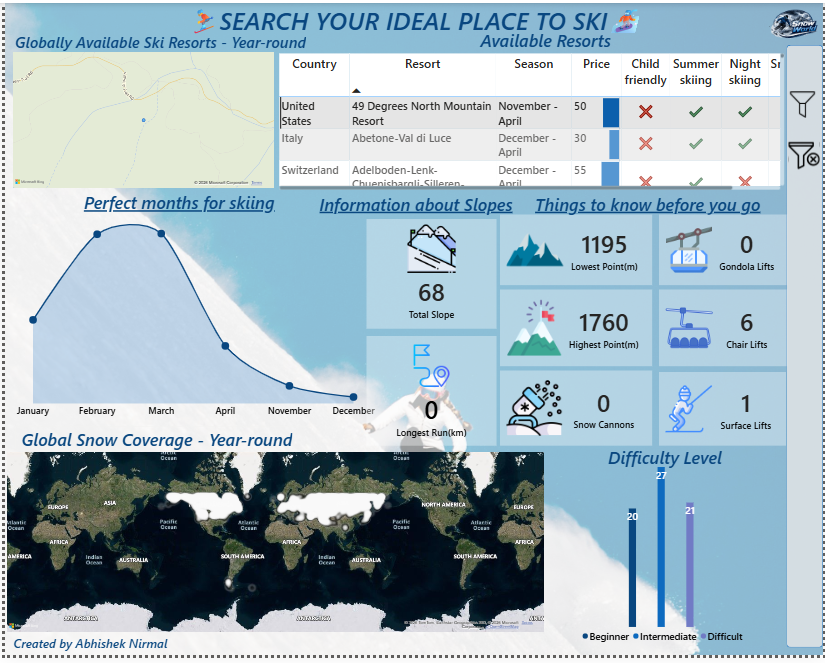

Layout of this report page (visuals, bound fields, positions):
{"tool":"powerbi","page":{"name":"Snow finder","canvas":[1800,1434],"ordinal":0},"visuals":[{"type":"shape","box":[1717.6,91.2,79.9,1325.1],"z":0,"group":"g1"},{"type":"textbox","box":[1262.1,972.4,375.9,65.5],"z":0},{"type":"textbox","box":[0,0,1796.7,90],"z":1000},{"type":"actionButton","box":[1718.8,297,79.9,77.2],"z":1000,"group":"g1"},{"type":"textbox","box":[696.6,55.2,986.2,51.7],"z":2000},{"type":"actionButton","box":[1718.8,186.3,79.9,70.4],"z":2000,"group":"g1"},{"type":"tableEx","fields":{"Values":["resorts.Country","resorts.Resort","resorts.Season","resorts.Price","resorts.Child friendly","resorts.Summer skiing","resorts.Nightskiing","resorts.Snowparks"]},"box":[597.1,105.6,1121.7,310.1],"z":3000},{"type":"textbox","box":[65.5,413.8,634.5,62.1],"z":4000},{"type":"lineChart","fields":{"Category":["Calendar.Month Name"],"Y":["snow.Snow Avg %"]},"box":[0,462.1,827.6,458.6],"z":5000},{"type":"clusteredColumnChart","fields":{"Y":["resorts.Beginner","resorts.Intermediate","resorts.Difficult"]},"box":[1177.8,1006.2,541.1,409.1],"z":6000},{"type":"textbox","box":[686.2,417.2,444.8,58.6],"z":7000},{"type":"cardVisual","fields":{"Data":["resorts.Total Slope"]},"box":[796.6,475.9,286.2,241.4],"z":8000},{"type":"cardVisual","fields":{"Data":["resorts.Longest Runway"]},"box":[796.6,731,286.2,241.4],"z":9000},{"type":"cardVisual","fields":{"Data":["resorts.Lowest_Point"]},"box":[1089.7,465.5,334.5,155.2],"z":10000},{"type":"textbox","box":[1106.9,417.2,610.3,58.6],"z":11000},{"type":"cardVisual","fields":{"Data":["resorts.Highest_Point"]},"box":[1089.7,629.3,334.5,169],"z":12000},{"type":"cardVisual","fields":{"Data":["resorts.Snow_Cannons"]},"box":[1089.7,806.9,334.5,165.5],"z":13000},{"type":"cardVisual","fields":{"Data":["resorts.Gondola_Lifts"]},"box":[1437.9,465.5,282.8,155.2],"z":14000},{"type":"cardVisual","fields":{"Data":["resorts.Chair_Lifts"]},"box":[1437.9,631,282.8,169],"z":15000},{"type":"cardVisual","fields":{"Data":["resorts.Surface_Lifts"]},"box":[1437.9,810.3,279.3,162.1],"z":16000},{"type":"map","fields":{"Y":["resorts.Latitude"],"X":["resorts.Longitude"]},"box":[13.8,103.4,582.8,310.3],"z":17000},{"type":"map","fields":{"Y":["snow.Latitude"],"X":["snow.Longitude"],"Size":["snow.Snow Avg %"]},"box":[0,983.1,1191,405.8],"z":18000},{"type":"cardVisual","fields":{"Data":["resorts.Map Title"]},"box":[0,48.3,769,69],"z":19000},{"type":"cardVisual","fields":{"Data":["resorts.Snow Map Title"]},"box":[13.8,920.7,672.4,75.9],"z":20000},{"type":"group","id":"g1","title":"Group 1","box":[1717.6,91.2,82.4,1326.5],"z":21000},{"type":"image","box":[1673.3,0,126.7,93.3],"z":23000},{"type":"textbox","box":[0,1388.9,376.1,46.2],"z":24000}]}

Visuals, with their boxes in screenshot pixels (x1, y1, x2, y2), scaled from the page's 1800x1434 canvas onto the 825x663 screenshot:
shape: 787/42/824/655
textbox: 578/450/751/480
textbox: 0/0/823/42
actionButton: 788/137/824/173
textbox: 319/26/771/49
actionButton: 788/86/824/119
tableEx - resorts.Country x resorts.Resort: 274/49/788/192
textbox: 30/191/321/220
lineChart - Calendar.Month Name x snow.Snow Avg %: 0/214/379/426
clusteredColumnChart - resorts.Beginner x resorts.Intermediate: 540/465/788/654
textbox: 315/193/518/220
cardVisual - resorts.Total Slope: 365/220/496/332
cardVisual - resorts.Longest Runway: 365/338/496/450
cardVisual - resorts.Lowest_Point: 499/215/653/287
textbox: 507/193/787/220
cardVisual - resorts.Highest_Point: 499/291/653/369
cardVisual - resorts.Snow_Cannons: 499/373/653/450
cardVisual - resorts.Gondola_Lifts: 659/215/789/287
cardVisual - resorts.Chair_Lifts: 659/292/789/370
cardVisual - resorts.Surface_Lifts: 659/375/787/450
map - resorts.Latitude x resorts.Longitude: 6/48/273/191
map - snow.Latitude x snow.Longitude: 0/455/546/642
cardVisual - resorts.Map Title: 0/22/352/54
cardVisual - resorts.Snow Map Title: 6/426/315/461
"Group 1" group: 787/42/824/655
image: 767/0/824/43
textbox: 0/642/172/662
